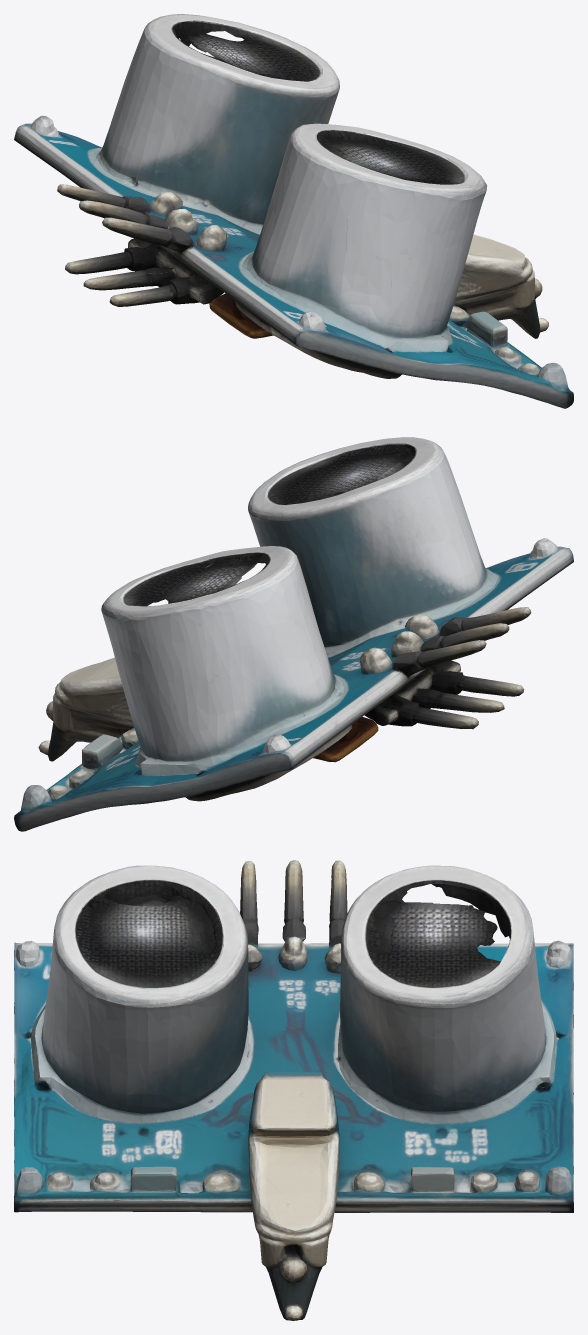
File: 62c5b1fa-147d-49db-99e1-36730e33abdc.glb
3 views of the same model, one above another, from view 1: azimuth 30°, elevation 25°; view 2: azimuth 150°, elevation 25°; view 3: azimuth 270°, elevation 25° (orthographic).
Visible parts, largest first — view 1: world; view 2: world; view 3: world.
Boxes of the visible parts, box(x1,y1,x2,y2) form: world: box(14, 14, 573, 408); world: box(14, 437, 573, 831); world: box(14, 860, 573, 1320).
Size of the model in its own units: 0.9614 by 0.6119 by 1.
1 material, 1 textured.
